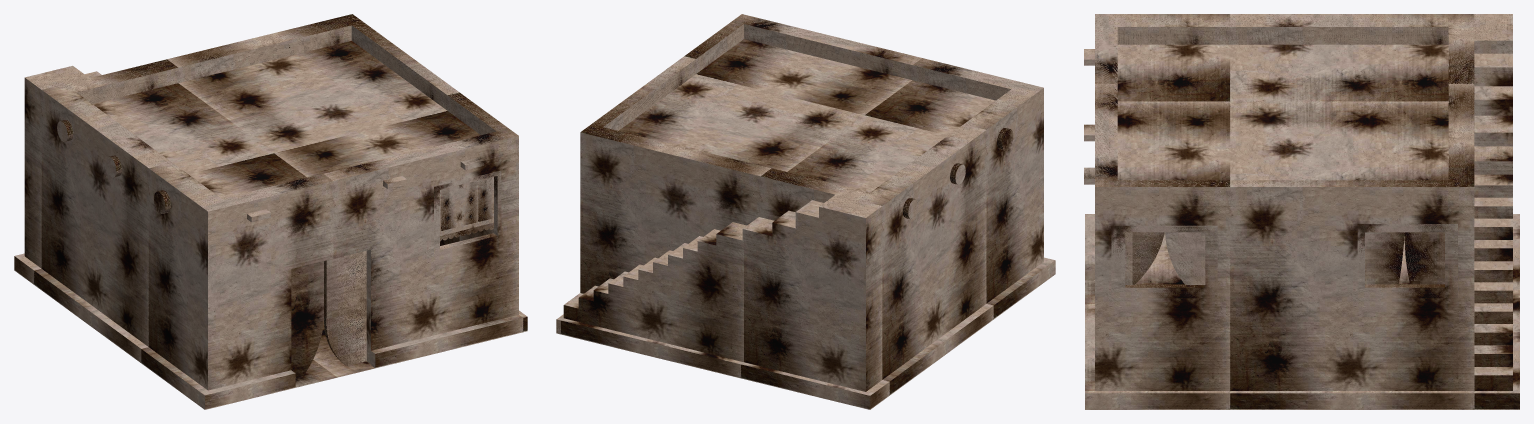
The model's file is VillageHouse1Frac.FBX.
3 views of the same model, side by side, from view 1: azimuth 30°, elevation 25°; view 2: azimuth 150°, elevation 25°; view 3: azimuth 270°, elevation 25° (orthographic). The views are drawn at different scales.
Parts seen in each view (by area): view 1: Model; view 2: Model; view 3: Model.
Part boxes in pixels (left/top/right/bottom): Model: left=14, top=14, right=527, bottom=409; Model: left=556, top=14, right=1055, bottom=409; Model: left=1084, top=14, right=1519, bottom=409.
Size of the model in its own units: 4.46 by 2.55 by 4.57.
Materials: 1 (1 with a texture image).
